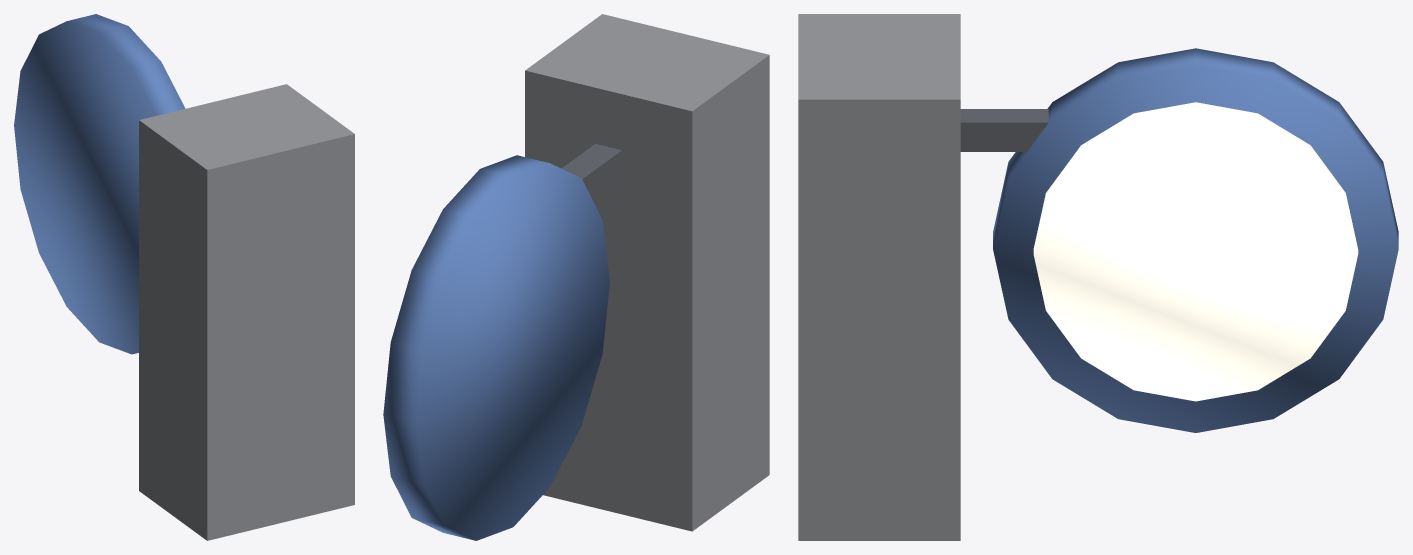
File: prop_kanban_sode_round_blue.glb
The picture shows the model from 3 angles, left to right: view 1: azimuth 30°, elevation 25°; view 2: azimuth 150°, elevation 25°; view 3: azimuth 270°, elevation 25°; orthographic projection. The views are drawn at different scales.
Visible parts, largest first — view 1: kanban_sode_round_blue; view 2: kanban_sode_round_blue; view 3: kanban_sode_round_blue.
Part boxes in pixels (bbox=[...]): kanban_sode_round_blue: bbox=[14, 14, 354, 540]; kanban_sode_round_blue: bbox=[383, 14, 769, 540]; kanban_sode_round_blue: bbox=[798, 14, 1398, 540].
Size of the model in its own units: 0.5 by 1.2 by 1.48.
